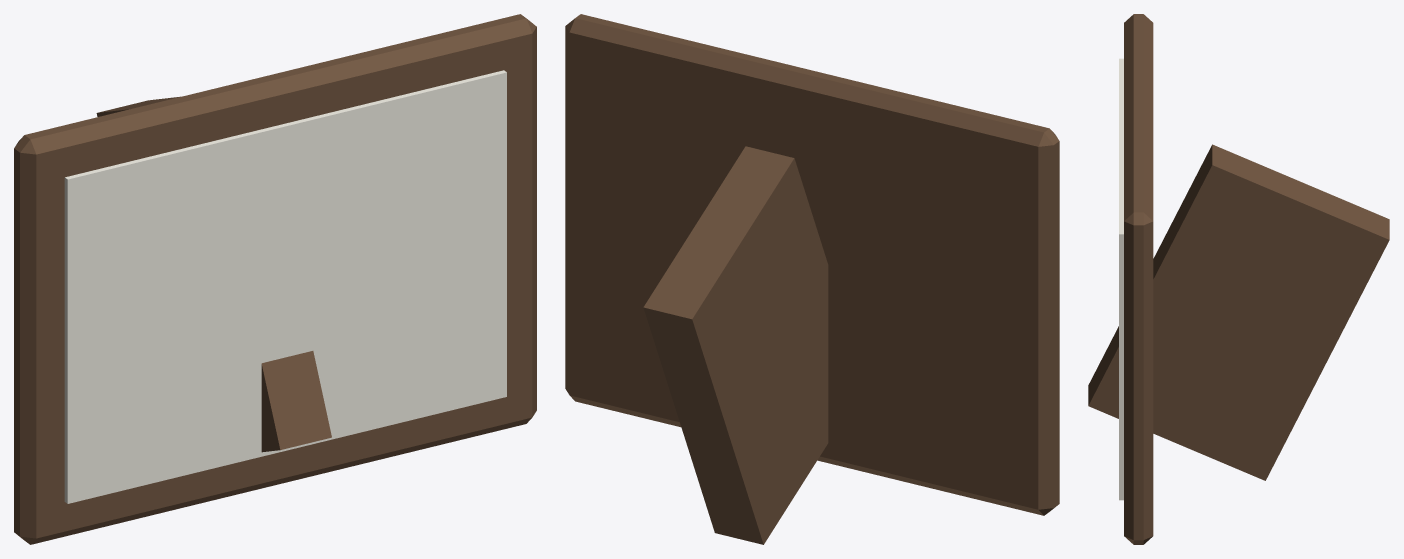
The model's file is photo_frame_stand.fbx.
3 views of the same model, side by side, from view 1: azimuth 30°, elevation 25°; view 2: azimuth 150°, elevation 25°; view 3: azimuth 270°, elevation 25° (orthographic). The views are drawn at different scales.
Visible parts, largest first — view 1: Picture, Frame; view 2: Frame; view 3: Frame, Picture.
Part boxes in pixels (box(x1,y1,x2,y2)): Picture: box(64, 70, 506, 503); Frame: box(14, 14, 536, 544); Frame: box(565, 14, 1059, 544); Frame: box(1088, 14, 1389, 544); Picture: box(1119, 58, 1123, 500).
Bounding box in the file's own units: 0.2 × 0.1613 × 0.1232.
